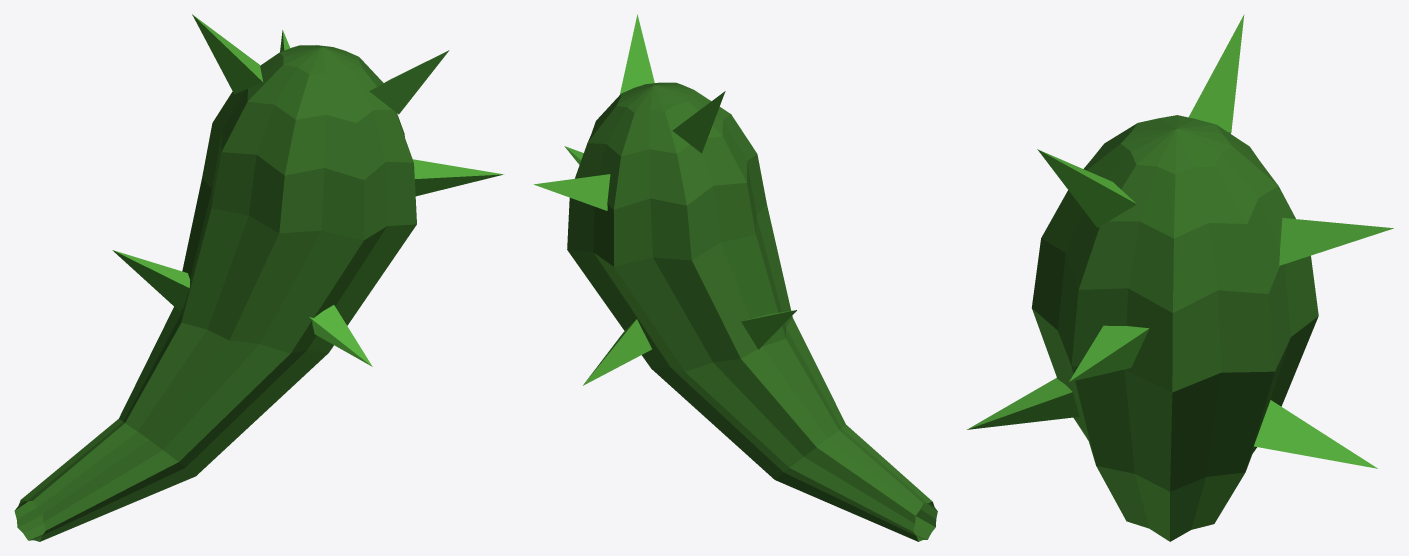
Rendered from Cactus_39_B.fbx.
3 renders of one model, left to right at view 1: azimuth 30°, elevation 25°; view 2: azimuth 150°, elevation 25°; view 3: azimuth 270°, elevation 25°, orthographic. The views are drawn at different scales.
Parts seen in each view (by area): view 1: Cactus_39_B; view 2: Cactus_39_B; view 3: Cactus_39_B.
Boxes of the visible parts, left/top/right/bottom form: Cactus_39_B: left=14, top=14, right=503, bottom=541; Cactus_39_B: left=533, top=14, right=937, bottom=541; Cactus_39_B: left=967, top=14, right=1393, bottom=541.
Size of the model in its own units: 75.43 by 76.14 by 50.38.
